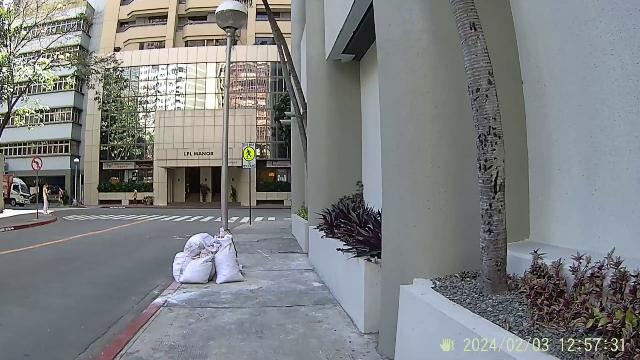garbage: (166, 229, 248, 286)
lamp_post: (212, 1, 246, 220), (72, 157, 80, 201)
street_sign: (240, 141, 258, 223), (30, 156, 42, 217)
